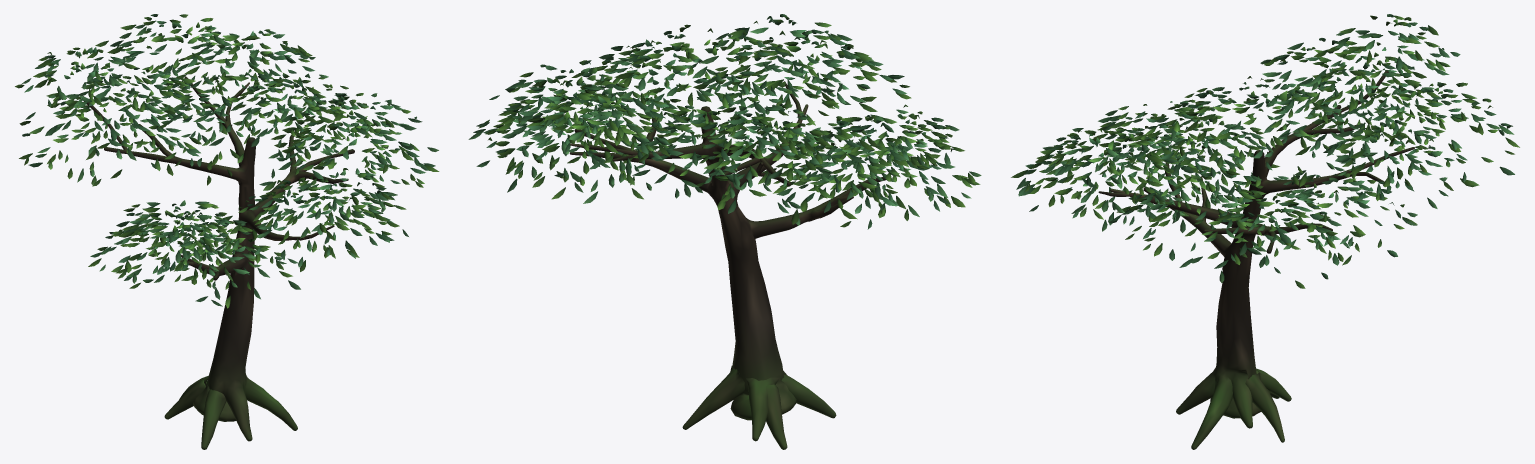
The model's file is tree_oak.glb.
3 renders of one model, left to right at view 1: azimuth 30°, elevation 25°; view 2: azimuth 150°, elevation 25°; view 3: azimuth 270°, elevation 25°, orthographic. The views are drawn at different scales.
Parts seen in each view (by area): view 1: tree_oak; view 2: tree_oak; view 3: tree_oak.
Part boxes in pixels (x1,y1,x2,y2): tree_oak: [15, 14, 439, 449]; tree_oak: [468, 14, 981, 449]; tree_oak: [1011, 14, 1519, 449].
Bounding box in the file's own units: 9.67 × 8.42 × 10.74.
